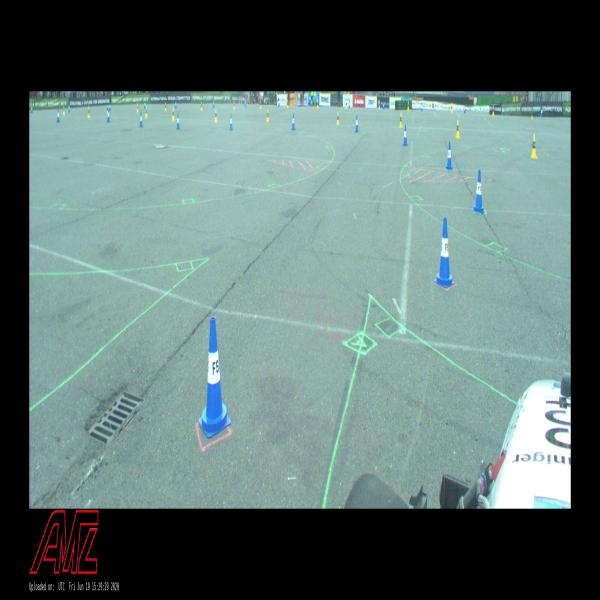blue_cone: (198, 317, 230, 438), (434, 217, 455, 288), (473, 170, 484, 213), (445, 141, 452, 169), (403, 125, 407, 146), (229, 114, 234, 130), (292, 113, 296, 130), (354, 115, 358, 132), (139, 112, 143, 127), (176, 113, 180, 128), (56, 109, 60, 122), (107, 110, 110, 122), (540, 108, 543, 117), (502, 106, 504, 116), (30, 105, 32, 113), (175, 100, 177, 108), (68, 105, 70, 112), (109, 103, 111, 110), (464, 106, 466, 113), (421, 103, 422, 112), (213, 100, 214, 108), (245, 100, 246, 106)
yellow_cone: (530, 134, 537, 158), (455, 120, 460, 138), (214, 109, 218, 123), (399, 113, 402, 127), (266, 109, 269, 123), (88, 106, 91, 118), (172, 108, 175, 120), (145, 107, 148, 117), (450, 103, 453, 113), (407, 101, 410, 110), (337, 112, 339, 125), (492, 106, 494, 116), (531, 110, 533, 120), (63, 105, 65, 114), (106, 105, 108, 114), (233, 101, 235, 110), (345, 100, 347, 109), (200, 101, 202, 110), (136, 104, 138, 112), (165, 102, 166, 111), (379, 101, 380, 110), (260, 101, 261, 109), (287, 100, 288, 108), (317, 100, 318, 108)
